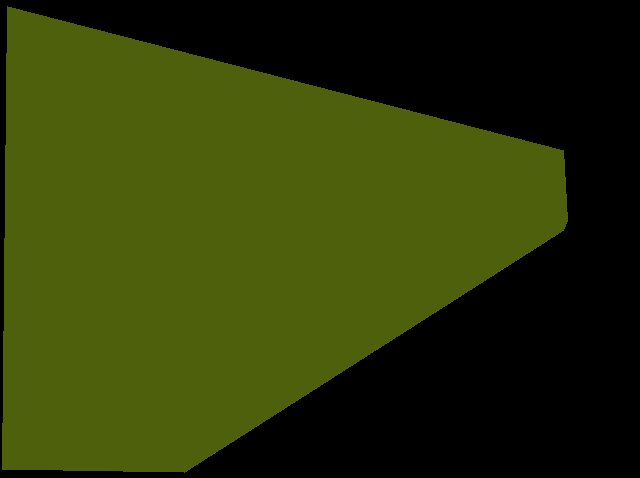Train: (2, 6, 568, 473)
